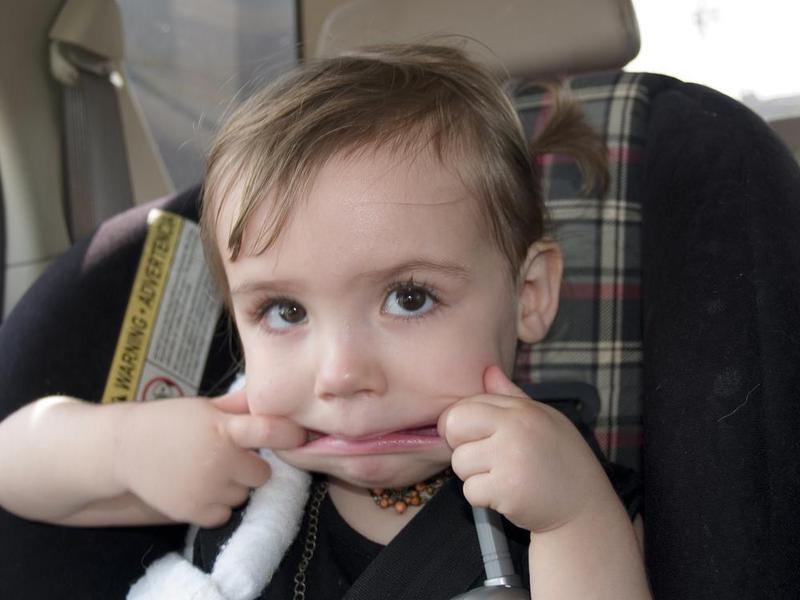person: (8, 42, 658, 599)
